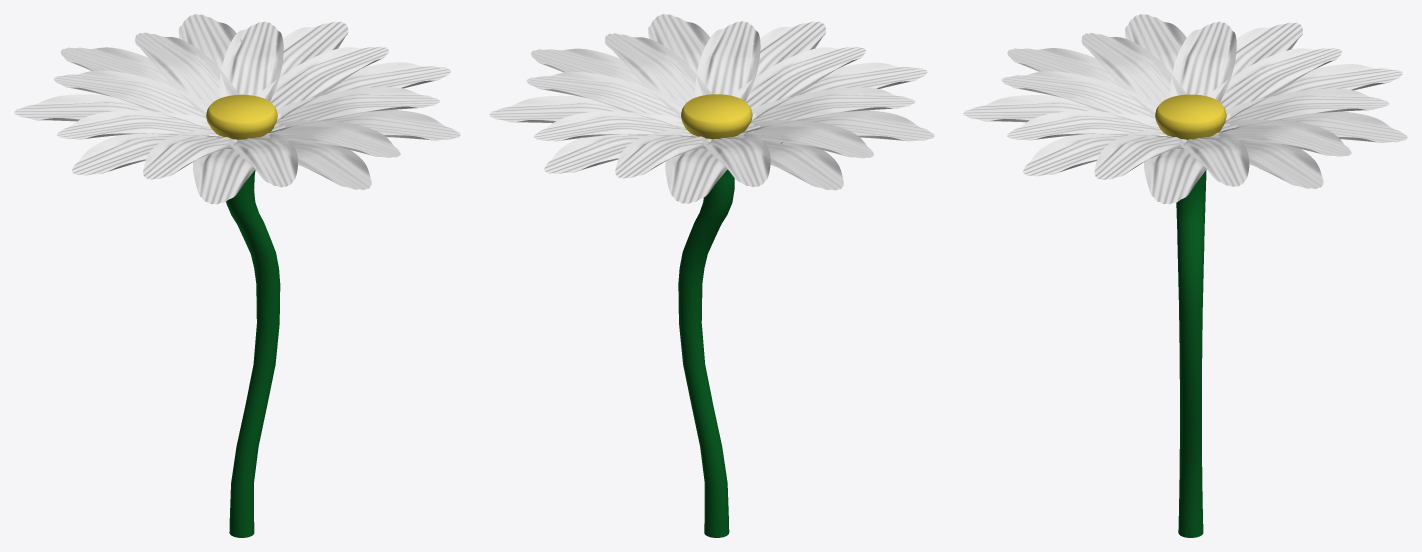
The model's file is papatya.fbx.
The picture shows the model from 3 angles, left to right: view 1: azimuth 30°, elevation 25°; view 2: azimuth 150°, elevation 25°; view 3: azimuth 270°, elevation 25°; orthographic projection.
Parts seen in each view (by area): view 1: Circle, Circle.001, Circle.002; view 2: Circle, Circle.001, Circle.002; view 3: Circle, Circle.001, Circle.002.
Boxes of the visible parts, left/top/right/bottom form: Circle: left=53, top=21, right=439, bottom=187; Circle.001: left=14, top=14, right=460, bottom=204; Circle.002: left=206, top=94, right=280, bottom=537; Circle: left=526, top=21, right=915, bottom=187; Circle.001: left=489, top=14, right=934, bottom=203; Circle.002: left=678, top=94, right=782, bottom=537; Circle: left=1001, top=21, right=1389, bottom=186; Circle.001: left=963, top=14, right=1407, bottom=204; Circle.002: left=1155, top=94, right=1226, bottom=537.
Size of the model in its own units: 898 by 953 by 888.
